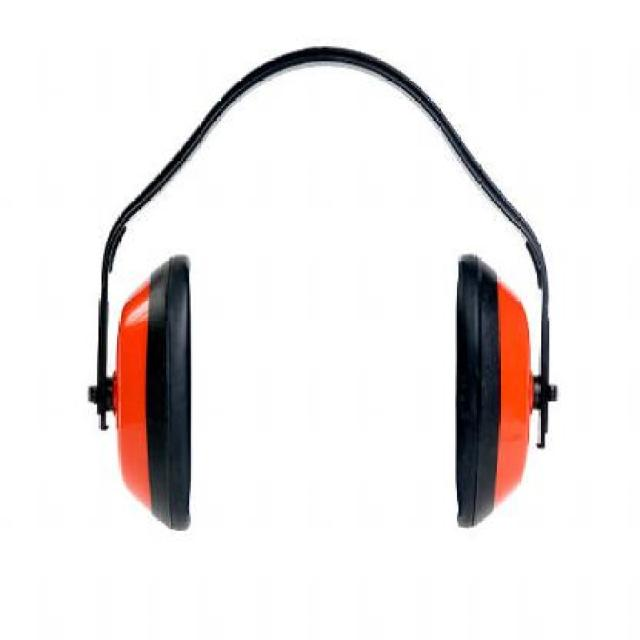Ear-protection: (84, 22, 561, 562)
